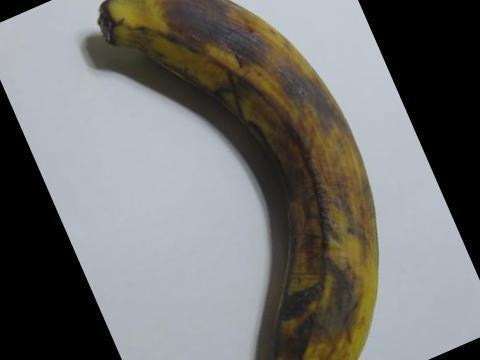overripe: (83, 0, 381, 359)
